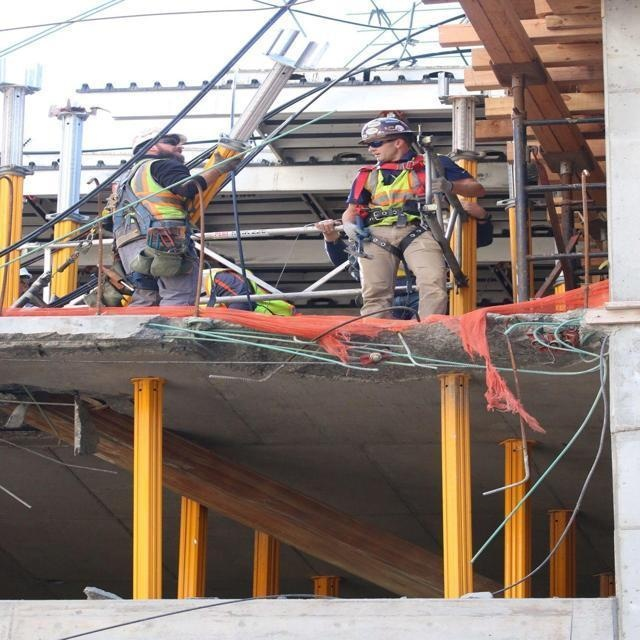Arnes_seguridad: (354, 160, 437, 255)
